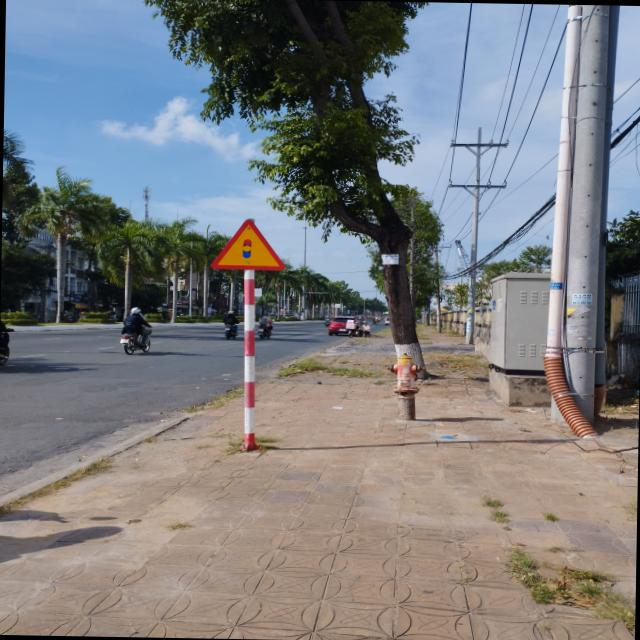Duong_Co_Go_Giam_Toc: (211, 218, 285, 270)
